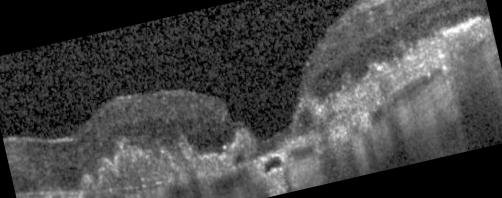lamellar_macular_rupture: (222, 71, 301, 139)
subretinal_hyperreflective_material: (291, 14, 493, 133), (78, 127, 254, 189)
